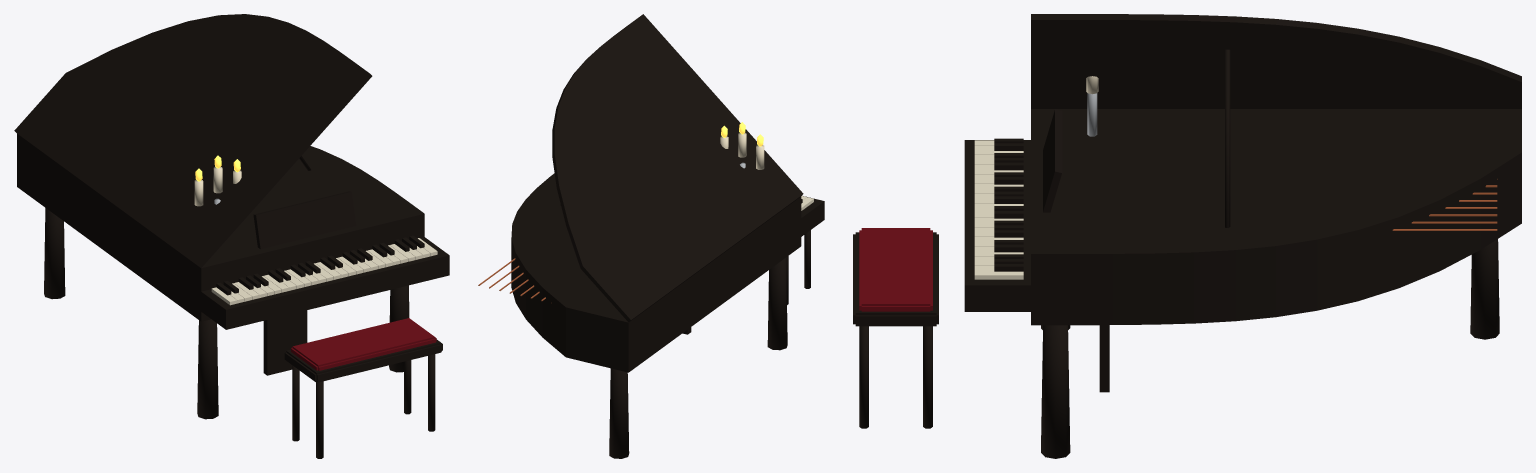
Rendered from gothic-piano.glb.
The picture shows the model from 3 angles, left to right: view 1: azimuth 30°, elevation 25°; view 2: azimuth 150°, elevation 25°; view 3: azimuth 270°, elevation 25°; orthographic projection. The views are drawn at different scales.
Parts seen in each view (by area): view 1: Model Mesh; view 2: Model Mesh; view 3: Model Mesh.
Part boxes in pixels (x1,y1,x2,y2): Model Mesh: (14,14,449,458); Model Mesh: (478,14,824,458); Model Mesh: (853,14,1521,458).
Size of the model in its own units: 1.42 by 1.86 by 2.72.
